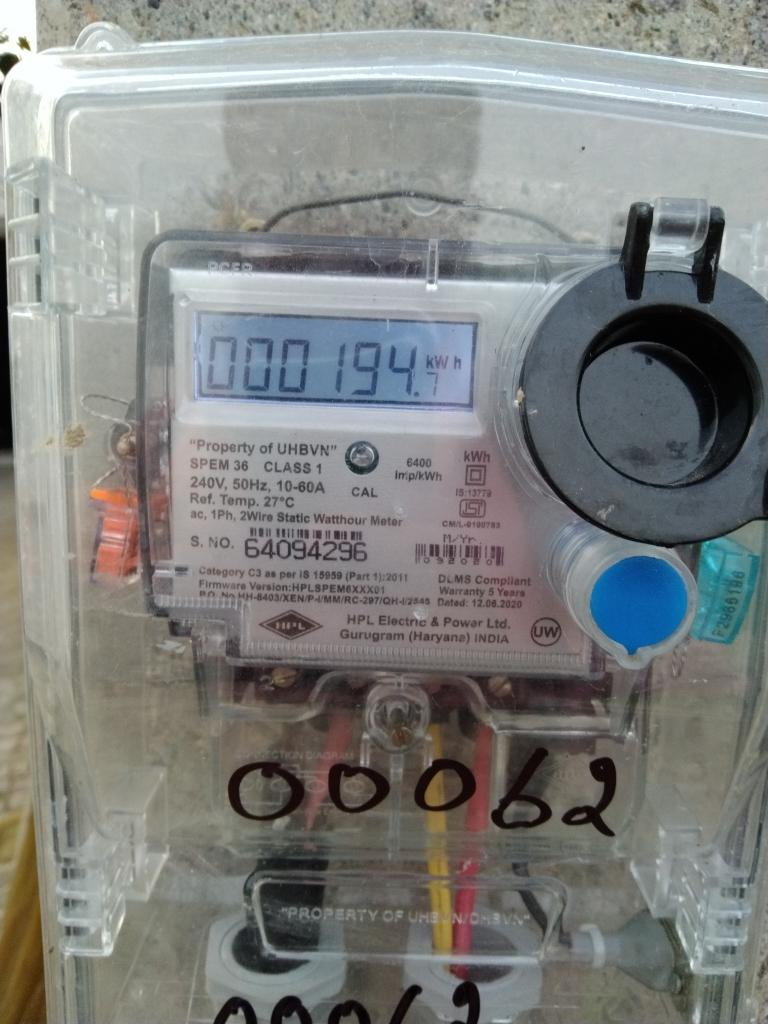.: (423, 352, 463, 372)
0: (410, 388, 422, 400)
1: (278, 335, 311, 400), (244, 337, 274, 398), (206, 333, 237, 392)
2: (328, 338, 350, 401)
5: (389, 341, 424, 397)
8: (425, 371, 441, 399)
object: (348, 336, 382, 399)
